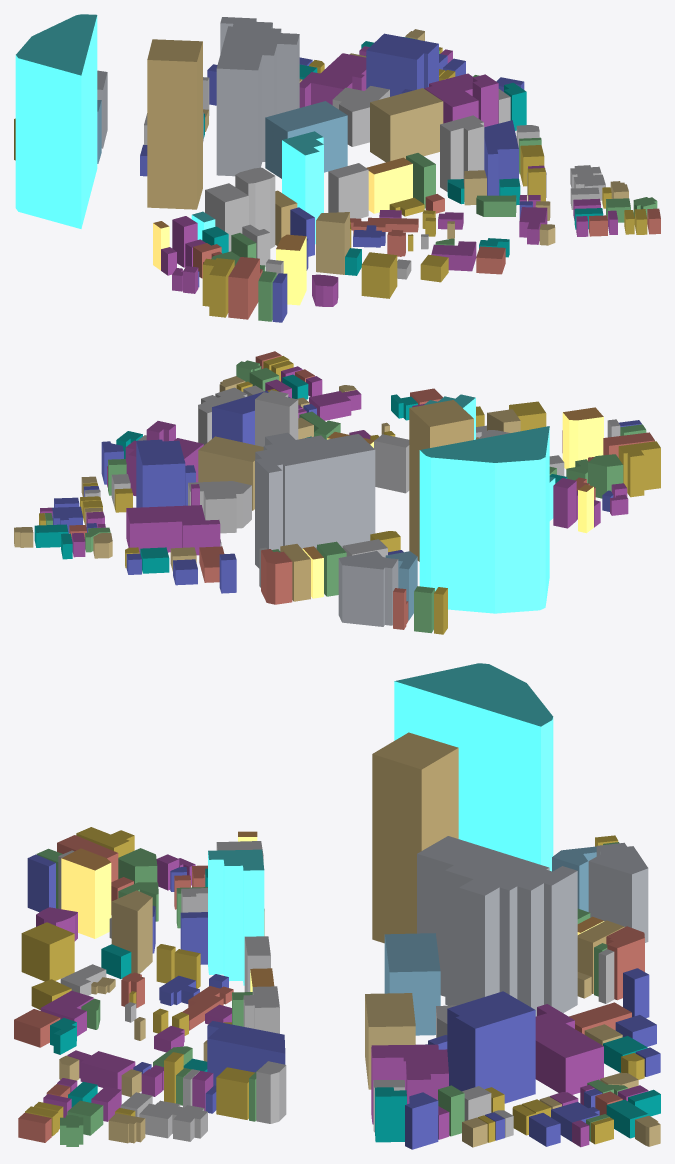
Rendered from shibuya-17.glb.
The picture shows the model from 3 angles, top to bottom: view 1: azimuth 30°, elevation 25°; view 2: azimuth 150°, elevation 25°; view 3: azimuth 270°, elevation 25°; orthographic projection. The views are drawn at different scales.
Parts seen in each view (by area): view 1: shibuya-17; view 2: shibuya-17; view 3: shibuya-17.
Part boxes in pixels (<box>): shibuya-17: <box>14,14,660,322</box>; shibuya-17: <box>14,351,660,634</box>; shibuya-17: <box>14,663,660,1149</box>.
Size of the model in its own units: 392 by 120 by 365.
